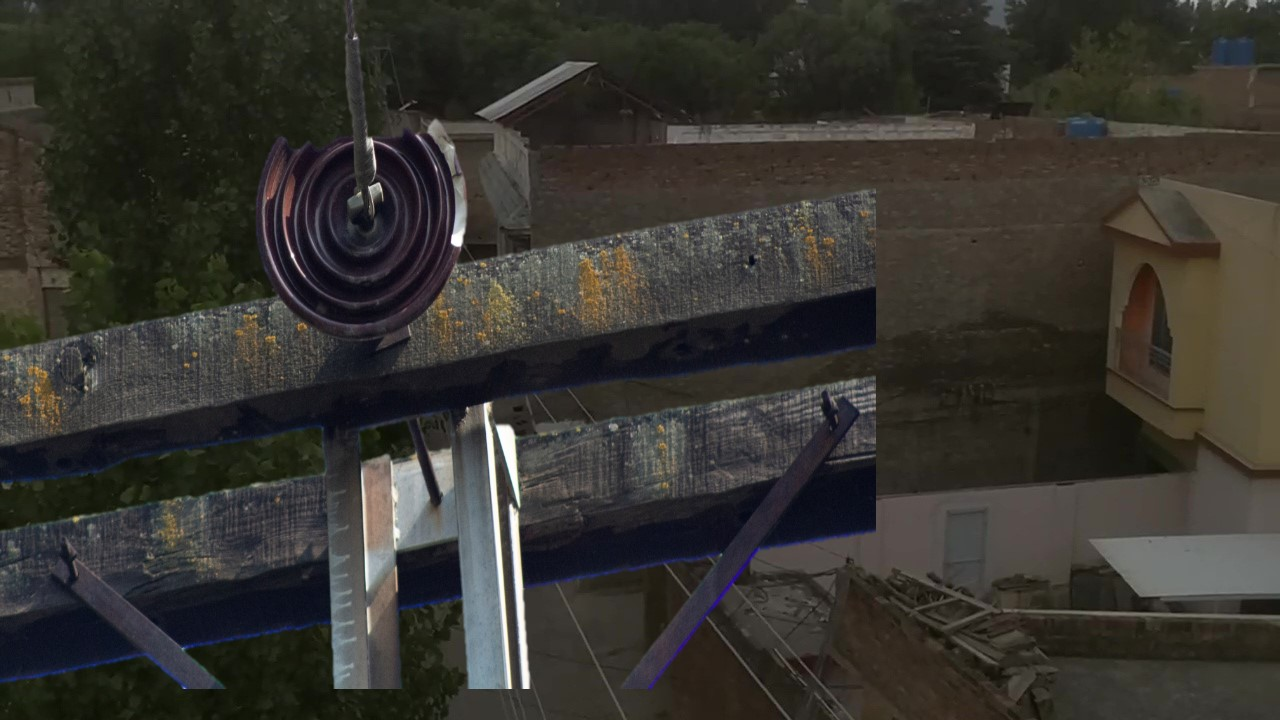defect_disc: (250, 108, 473, 351)
